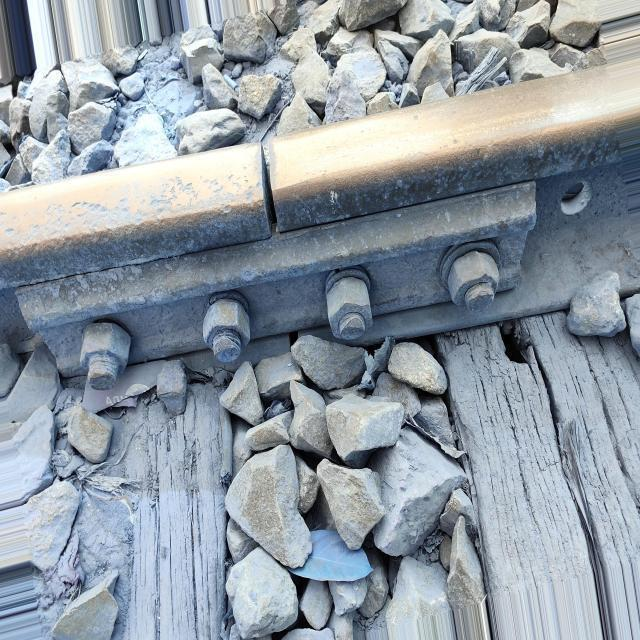head_checks_low: (68, 204, 174, 234)
